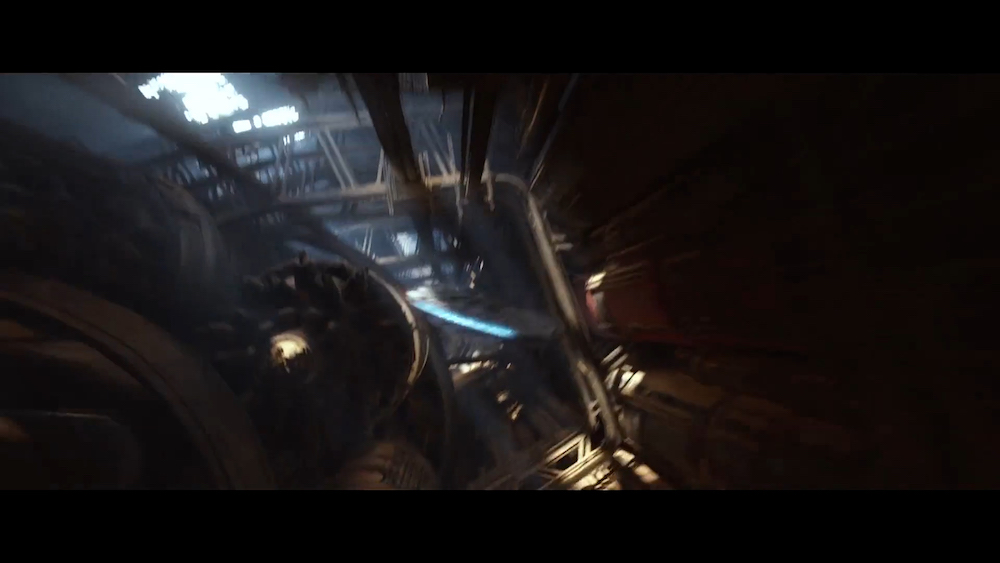Millennium Falcon: (405, 282, 565, 347)
